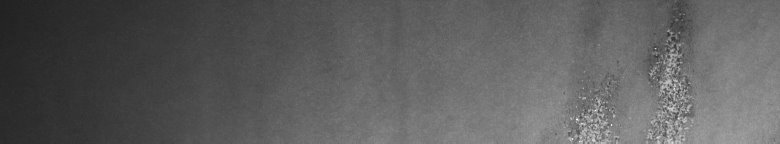hc: (559, 4, 700, 136)
